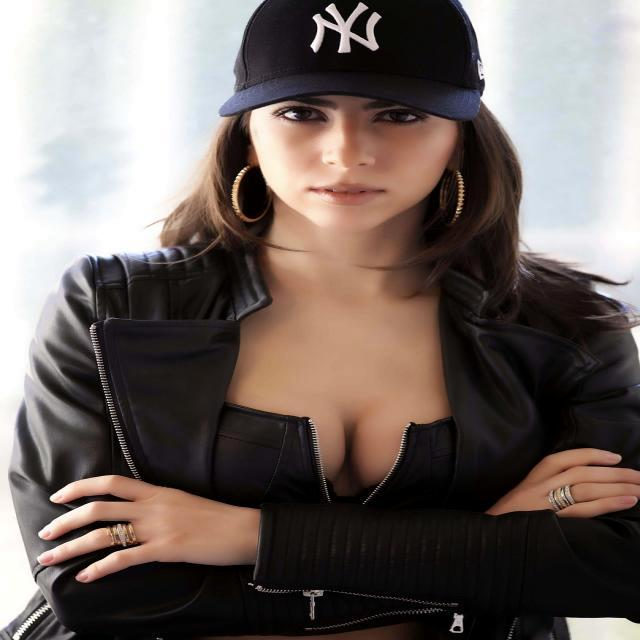no_hard_hat: (219, 0, 484, 121)
person: (0, 96, 638, 640)
